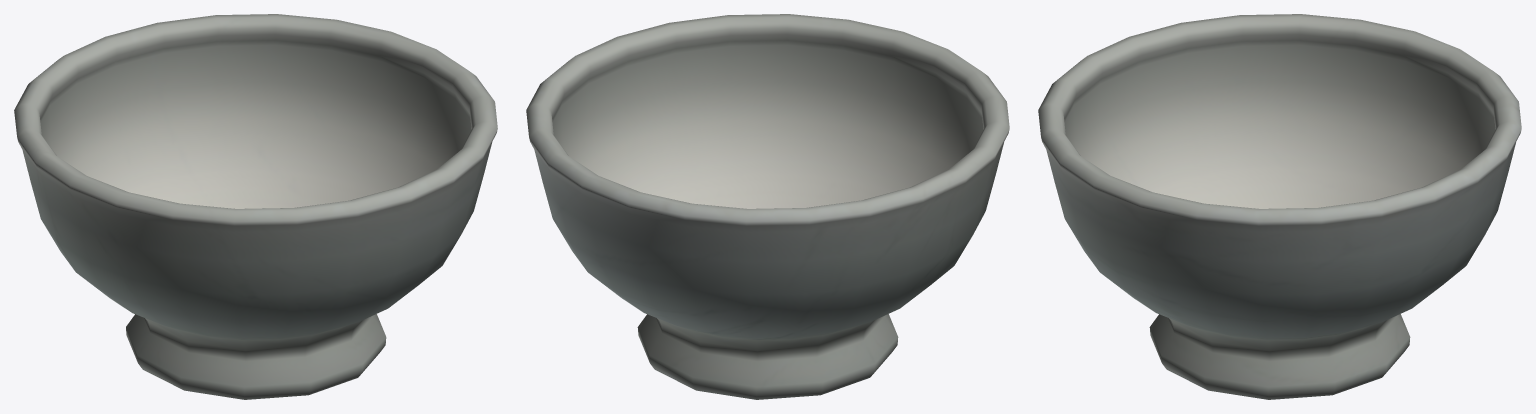
Rendered from TraditionalKoreanHouse_CupB.fbx.
The picture shows the model from 3 angles, left to right: view 1: azimuth 30°, elevation 25°; view 2: azimuth 150°, elevation 25°; view 3: azimuth 270°, elevation 25°; orthographic projection.
Parts seen in each view (by area): view 1: TraditionalKoreanHouse_CupB; view 2: TraditionalKoreanHouse_CupB; view 3: TraditionalKoreanHouse_CupB.
Part boxes in pixels (x1,y1,x2,y2): TraditionalKoreanHouse_CupB: [14, 14, 497, 399]; TraditionalKoreanHouse_CupB: [526, 14, 1009, 399]; TraditionalKoreanHouse_CupB: [1038, 14, 1521, 399].
Size of the model in its own units: 6.29 by 3.4 by 6.29.
